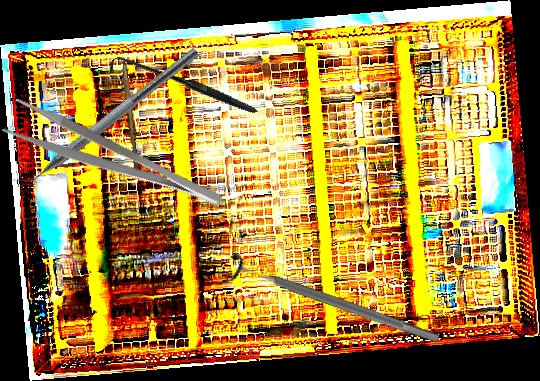Chopper: (7, 34, 201, 199)
Dressing Forceps: (0, 93, 226, 230)
Fixation Ring: (221, 249, 445, 356)
Hook Surgical: (105, 10, 258, 165)
Scalpel Handle: (118, 62, 142, 172)
